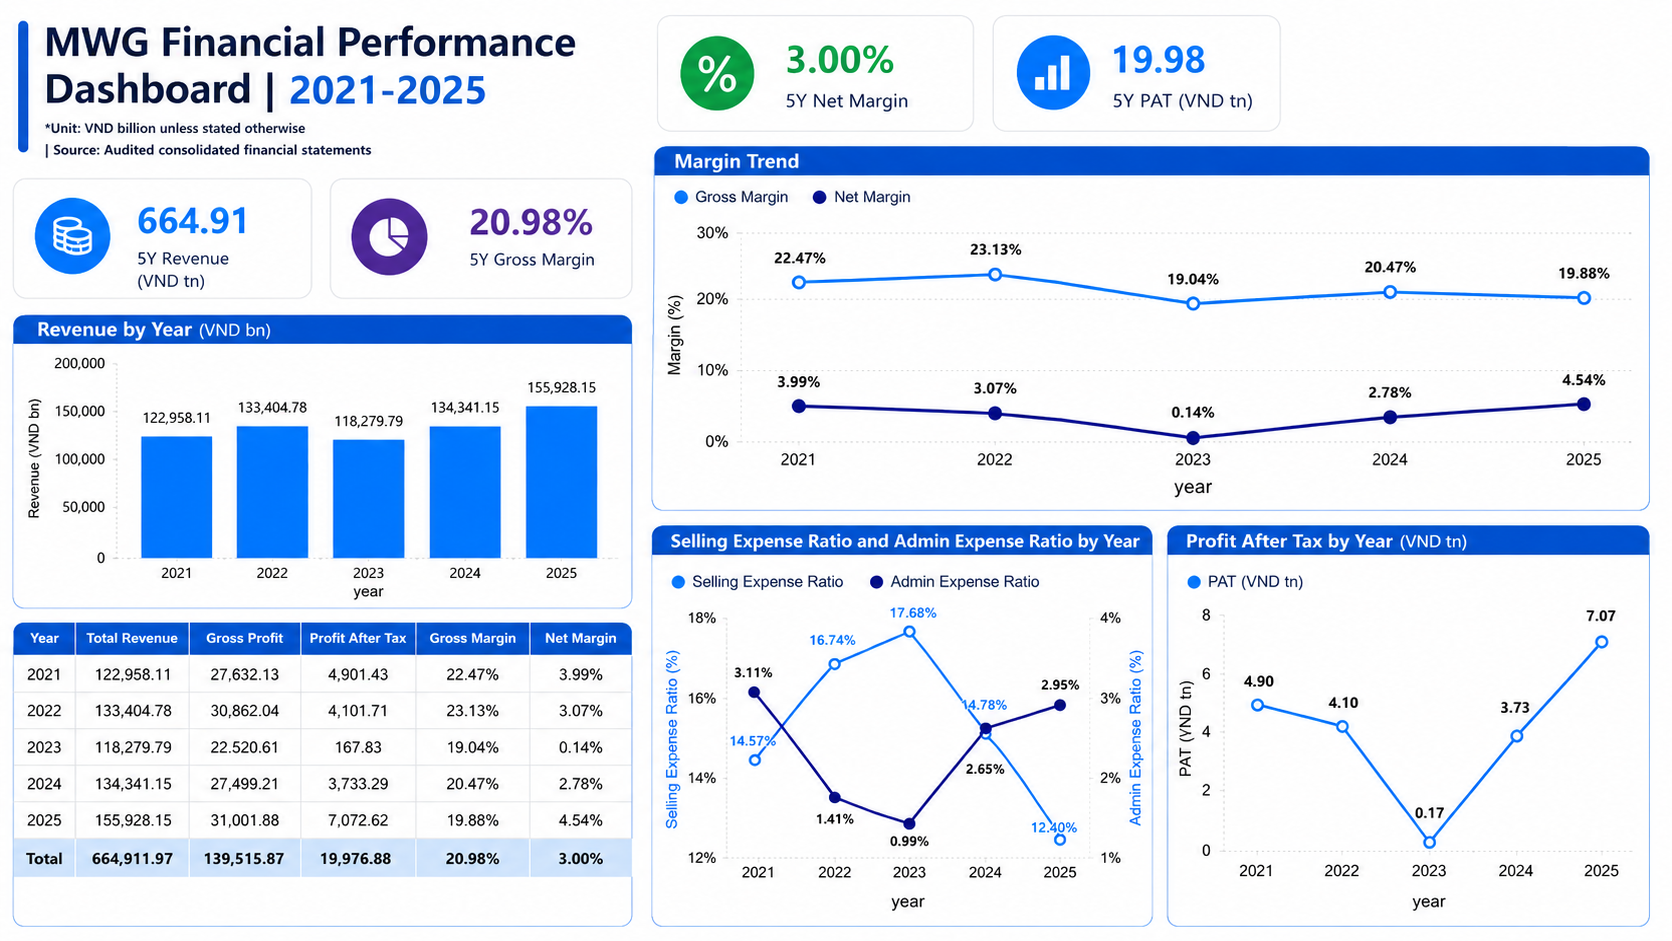

Layout of this report page (visuals, bound fields, positions):
{"tool":"powerbi","page":{"name":"Executive Summary","canvas":[1280,720],"ordinal":0},"visuals":[{"type":"cardVisual","fields":{"Data":["fact_financials.5Y Revenue (VND tn)"]},"box":[8.3,150,290,140],"z":0},{"type":"cardVisual","fields":{"Data":["fact_financials.5Y PAT (VND tn)"]},"box":[871.7,0,253.3,150],"z":1000},{"type":"cardVisual","fields":{"Data":["fact_financials.Net Margin"]},"box":[533.3,0,280,150],"z":2000},{"type":"cardVisual","fields":{"Data":["fact_financials.Gross Margin"]},"box":[283.3,150,250,140],"z":3000},{"type":"clusteredColumnChart","fields":{"Category":["fact_financials.year"],"Y":["fact_financials.Total Revenue"]},"box":[8,312,525,235],"z":4000},{"type":"lineChart","fields":{"Category":["fact_financials.year"],"Y":["fact_financials.Profit After Tax"]},"box":[946,440,334,280],"z":5000},{"type":"lineChart","fields":{"Category":["fact_financials.year"],"Y":["fact_financials.Gross Margin","fact_financials.Net Margin"]},"box":[548.3,150,606.7,261.7],"z":6000},{"type":"lineChart","fields":{"Category":["fact_financials.year"],"Y":["fact_financials.Selling Expense Ratio"],"Y2":["fact_financials.Admin Expense Ratio"]},"box":[547.5,422.5,398.8,297.5],"z":7000},{"type":"tableEx","fields":{"Values":["fact_financials.year","fact_financials.Total Revenue","fact_financials.Gross Profit","fact_financials.Profit After Tax","fact_financials.Gross Margin","fact_financials.Net Margin"]},"box":[8,558,540,162],"z":8000},{"type":"textbox","box":[0,0,548.3,113.3],"z":9000},{"type":"textbox","box":[0,112.9,484.3,47.1],"z":10000}]}

Visuals, with their boxes in screenshot pixels (x1, y1, x2, y2), scaled from the page's 1280x720 canvas onto the 1672x941 screenshot:
cardVisual - fact_financials.5Y Revenue (VND tn): <box>11,196,390,379</box>
cardVisual - fact_financials.5Y PAT (VND tn): <box>1139,0,1470,196</box>
cardVisual - fact_financials.Net Margin: <box>697,0,1062,196</box>
cardVisual - fact_financials.Gross Margin: <box>370,196,697,379</box>
clusteredColumnChart - fact_financials.year x fact_financials.Total Revenue: <box>10,408,696,715</box>
lineChart - fact_financials.year x fact_financials.Profit After Tax: <box>1236,575,1671,940</box>
lineChart - fact_financials.year x fact_financials.Gross Margin: <box>716,196,1509,538</box>
lineChart - fact_financials.year x fact_financials.Selling Expense Ratio: <box>715,552,1236,940</box>
tableEx - fact_financials.year x fact_financials.Total Revenue: <box>10,729,716,940</box>
textbox: <box>0,0,716,148</box>
textbox: <box>0,148,633,209</box>
